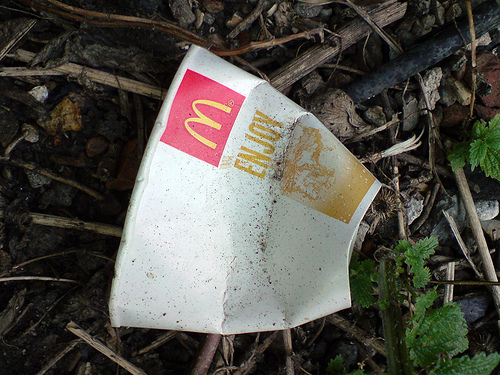litter: (105, 41, 380, 333)
